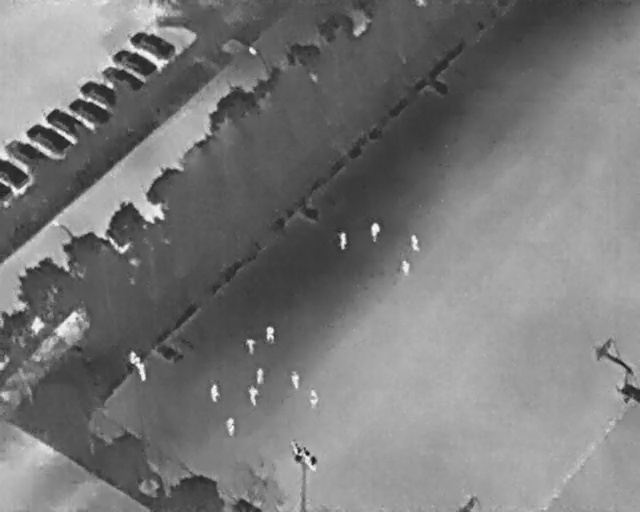Car: (1, 129, 60, 181), (21, 115, 77, 164), (42, 101, 98, 149), (127, 22, 182, 67), (107, 40, 160, 84), (98, 59, 151, 101), (65, 91, 117, 133), (75, 74, 123, 114), (0, 158, 31, 190), (0, 181, 13, 202)
Person: (369, 221, 382, 243), (247, 384, 258, 406), (338, 230, 349, 251), (244, 338, 257, 355), (409, 232, 420, 252), (308, 388, 319, 408), (226, 417, 236, 437), (209, 384, 219, 402), (266, 326, 275, 344), (256, 367, 265, 385), (292, 372, 301, 388), (401, 260, 410, 275)
